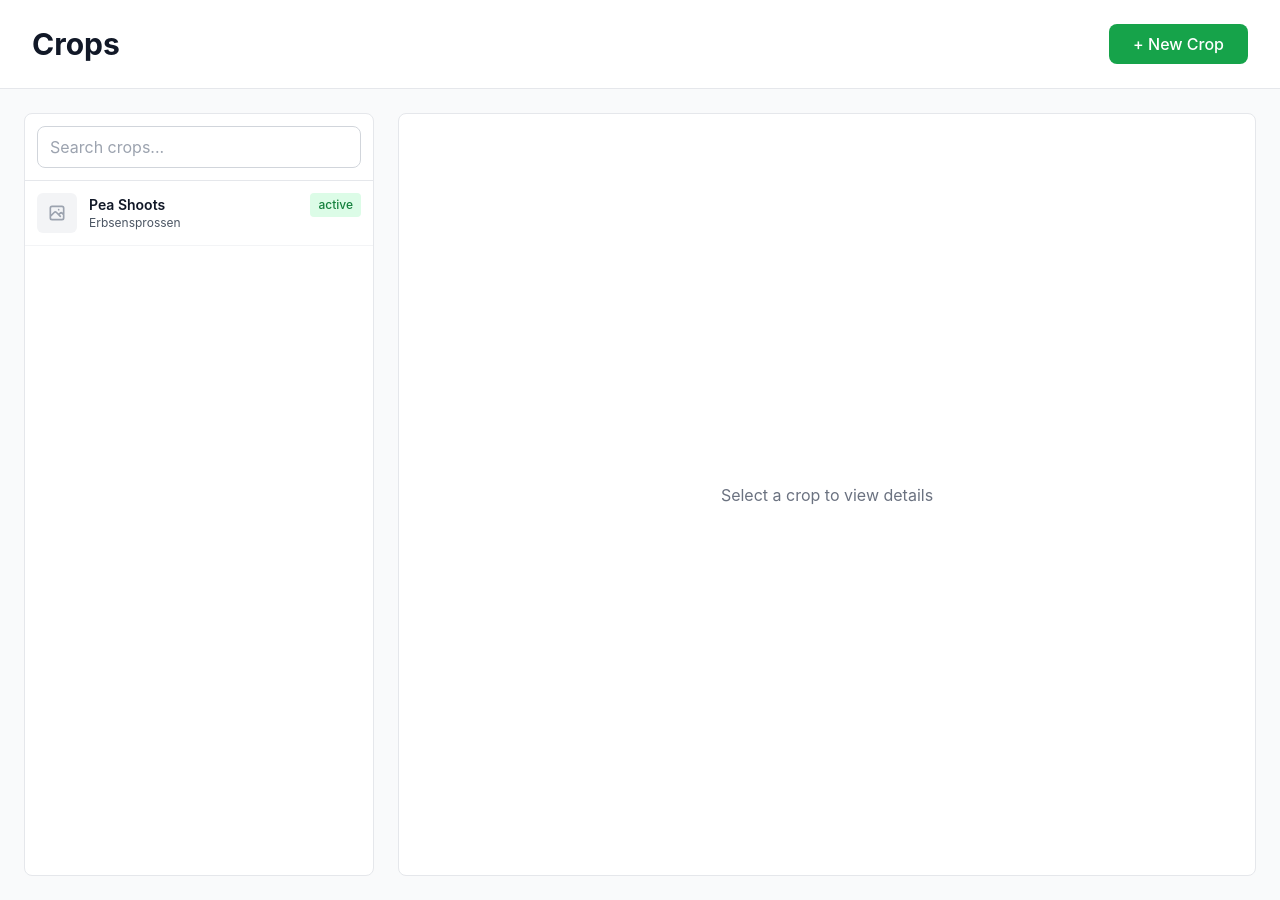
Test: AdminCropsPage › Sizes & Prices Tab › should display existing variants
Click the text "Pea Shoots" at (127, 204), box 89,196 -> 165,213
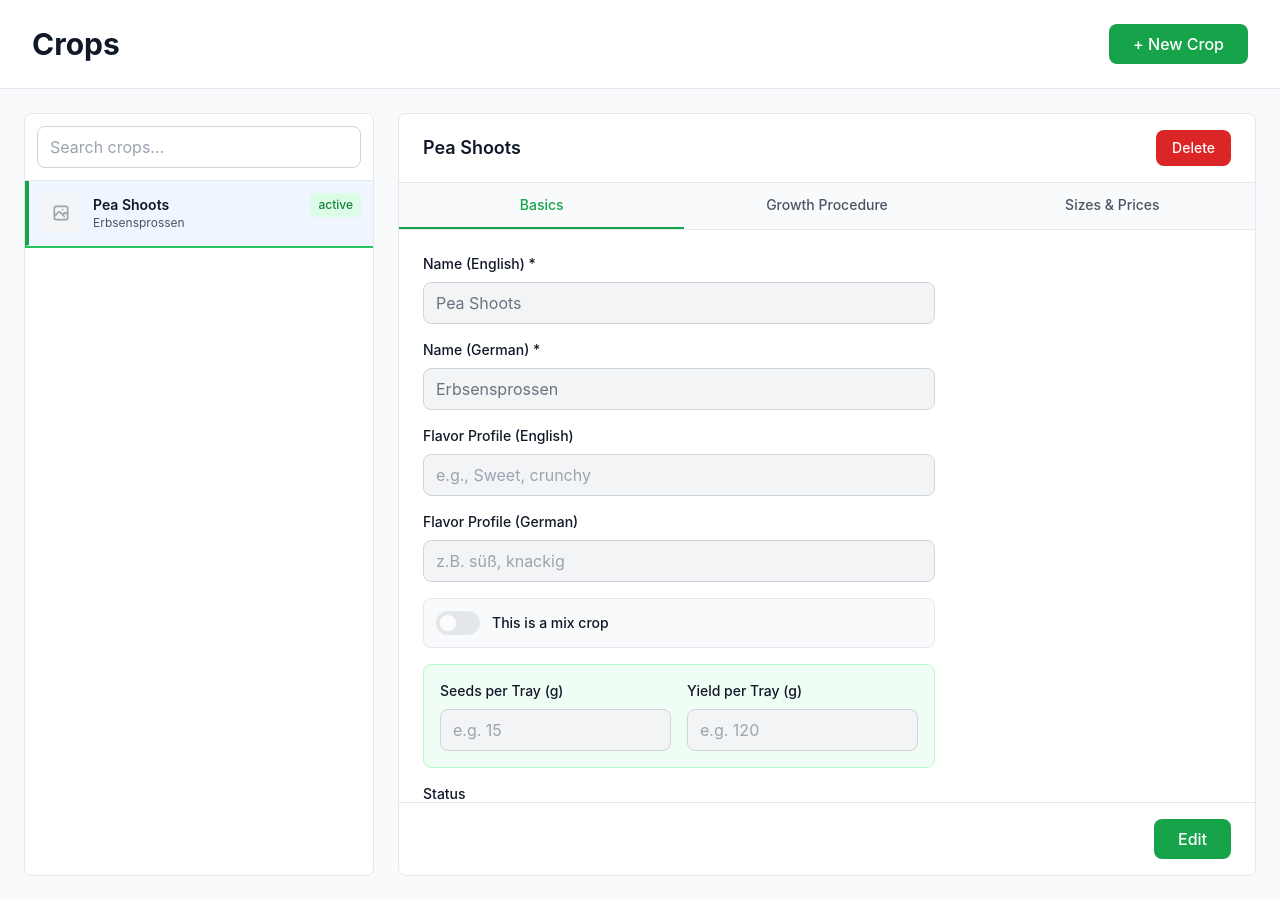
Click the button "Sizes & Prices" at (1112, 206), box 970,183 -> 1255,229
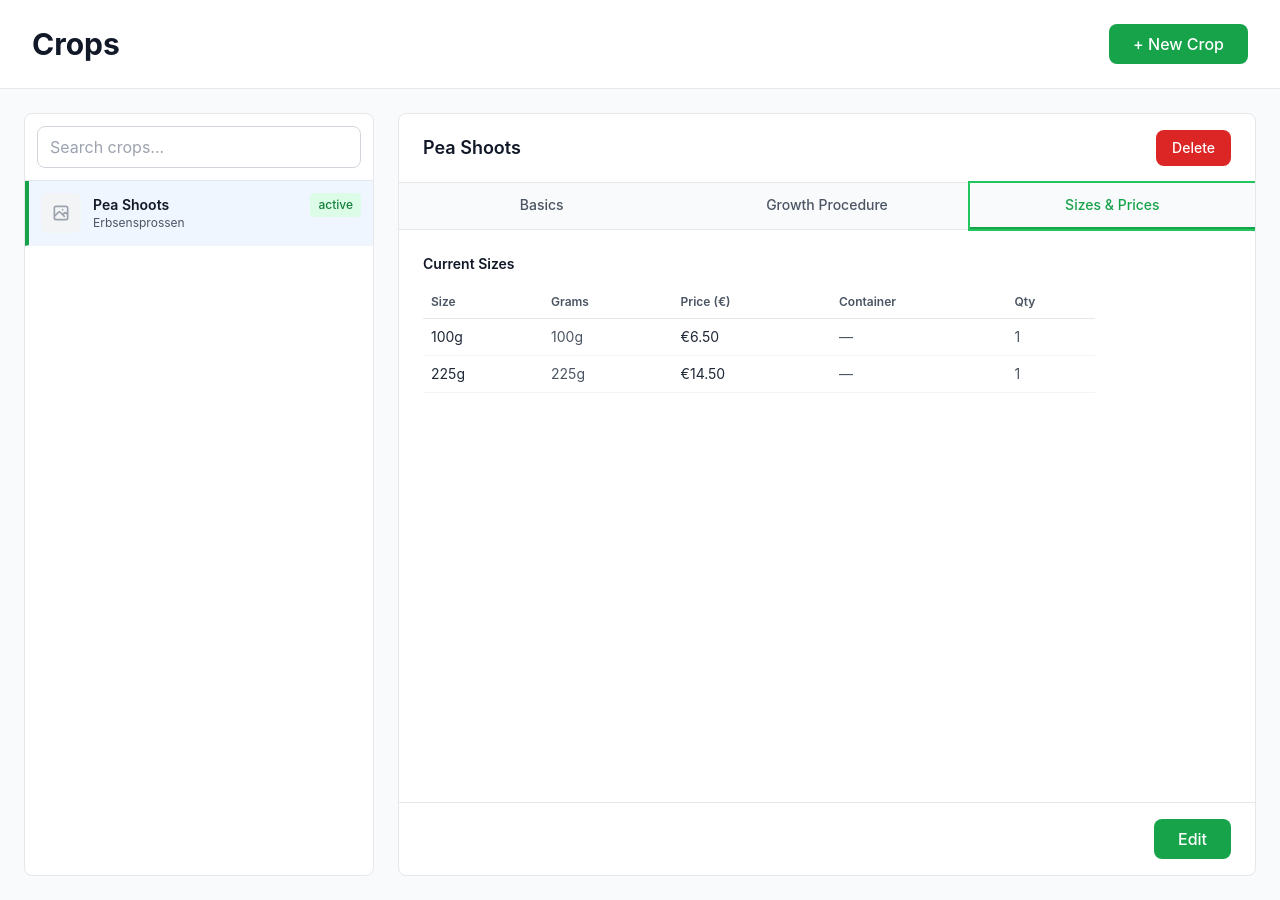
Result: the 1st text "100g" is shown at 423,318 -> 543,356
Result: the 1st text "225g" is shown at 423,356 -> 543,392
